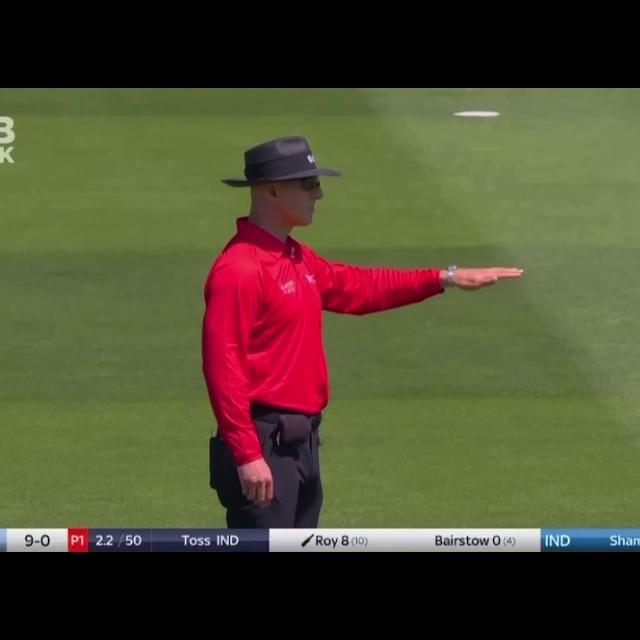umpire: (173, 128, 538, 522)
